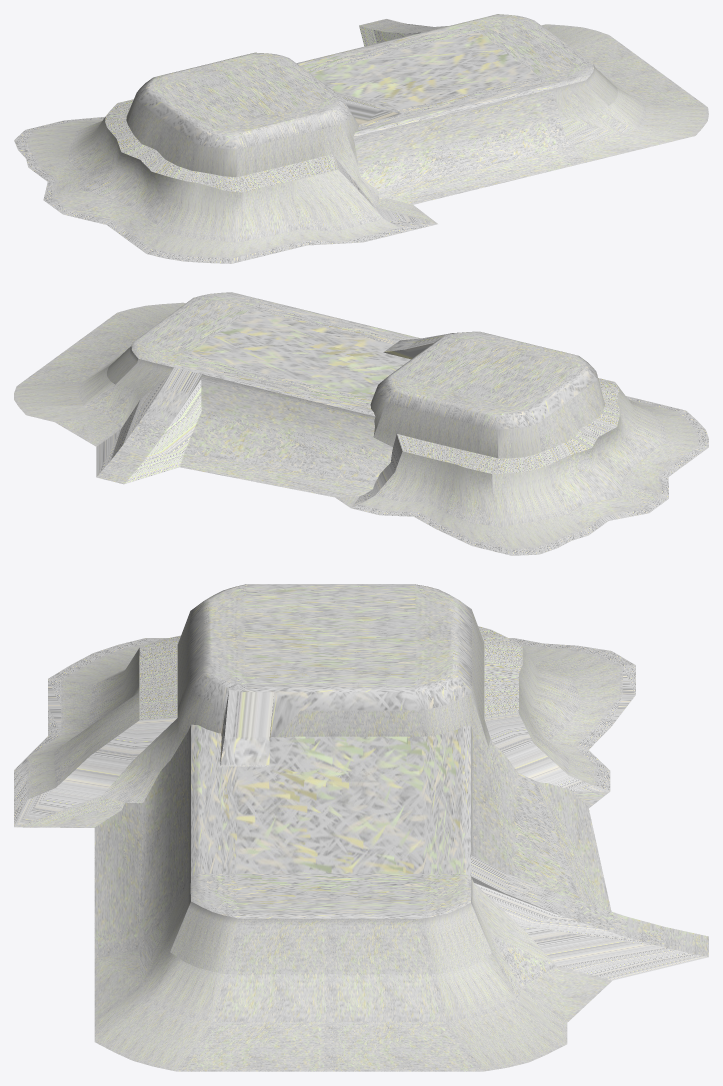
Rendered from mound.glb.
3 renders of one model, top to bottom at view 1: azimuth 30°, elevation 25°; view 2: azimuth 150°, elevation 25°; view 3: azimuth 270°, elevation 25°, orthographic. The views are drawn at different scales.
Visible parts, largest first — view 1: pPlane1, pPlane2; view 2: pPlane2, pPlane1; view 3: pPlane2, pPlane1.
Boxes of the visible parts, x1,y1,x2,y2 form: pPlane1: [14, 52, 437, 263]; pPlane2: [296, 14, 708, 204]; pPlane2: [14, 292, 420, 497]; pPlane1: [336, 331, 708, 555]; pPlane2: [94, 724, 708, 1071]; pPlane1: [14, 584, 635, 827].
Size of the model in its own units: 415 by 52.32 by 270.
1 material, 1 textured.
